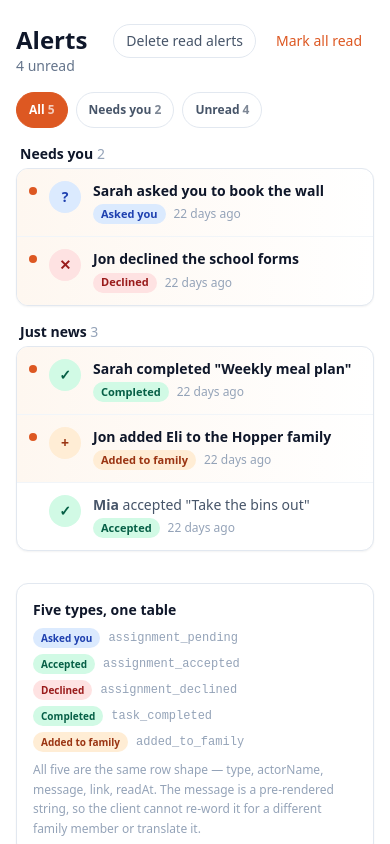
Test case: alerts page — filter chips › narrows the feed to the needs-you rows when that chip is tapped
The width and height of the screenshot is (390, 844).
Click the button "Needs you 2".
click(125, 110)  # box [76,92,174,128]
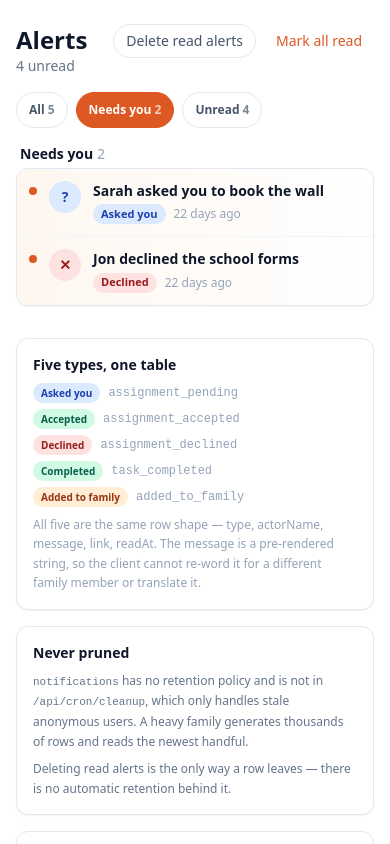
expect the element "Needs you" is shown: met, box [16,144,374,306]
expect the heading "Just news" is gone: met
expect the link "accepted \"Take the bins out\"" is gone: met
